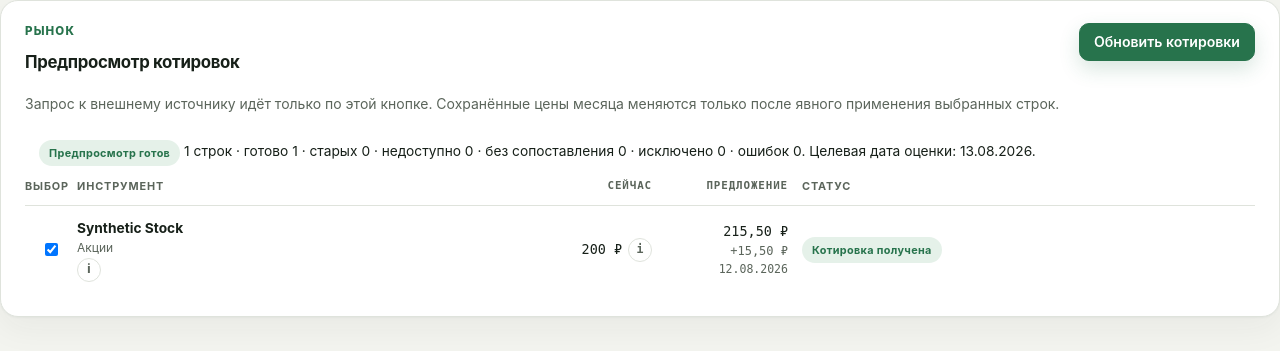
Test: QuotePreviewPanel › shows current, proposed and price date for an OK row
Expected: the table named "Предпросмотр котировок" shows "Synthetic Stock", x1=77 y1=220 x2=183 y2=236
Expected: the table named "Предпросмотр котировок" shows "200", x1=582 y1=242 x2=622 y2=257
What coordinates should you click on to do the following:
click the button named "Текущая оценка для Synthetic Stock"
I would click on:
 (640, 250)
Its box is x1=628 y1=238 x2=652 y2=262.
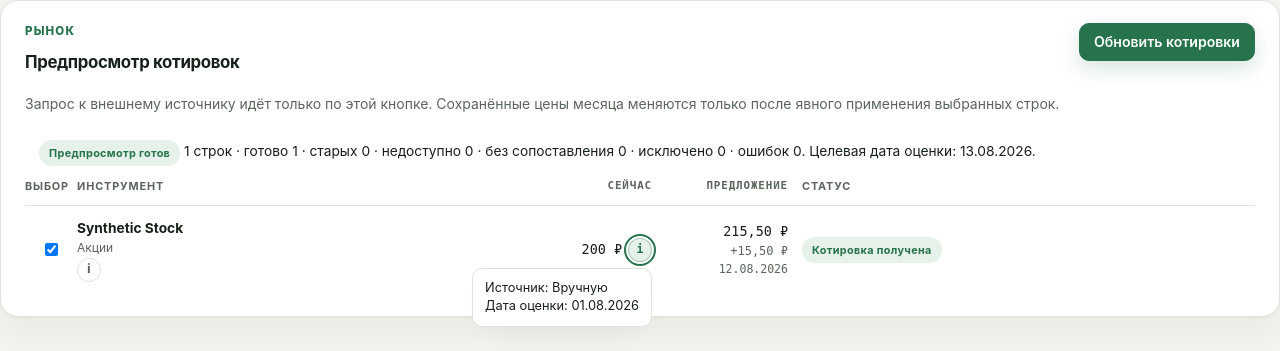
Now the tooltip shows "Источник: Вручную", box x1=472 y1=268 x2=652 y2=327
Now the tooltip shows "Дата оценки: 01.08.2026", box x1=472 y1=268 x2=652 y2=327
